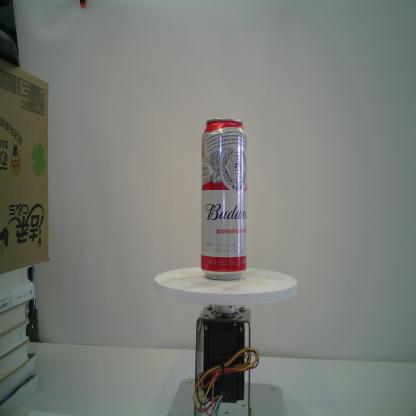Alcohol: (200, 116, 248, 281)
